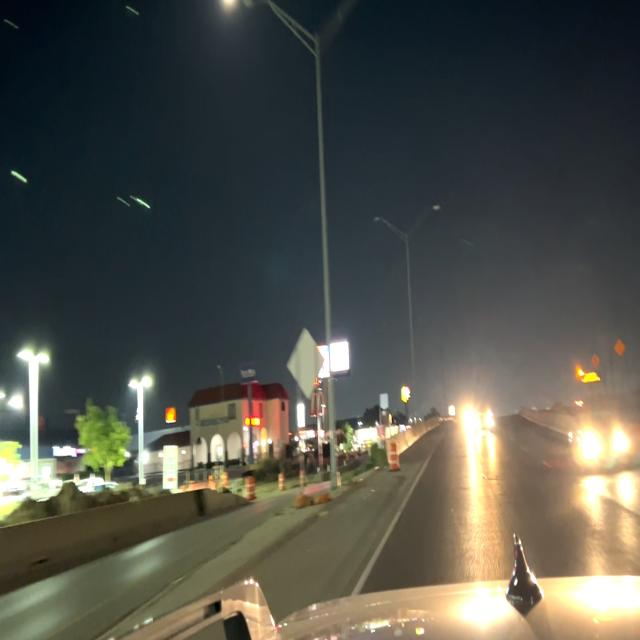back-of-sign: (284, 328, 324, 399)
